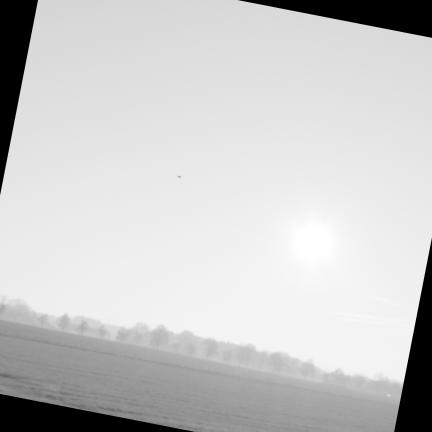Shahed: (178, 176, 182, 178)
